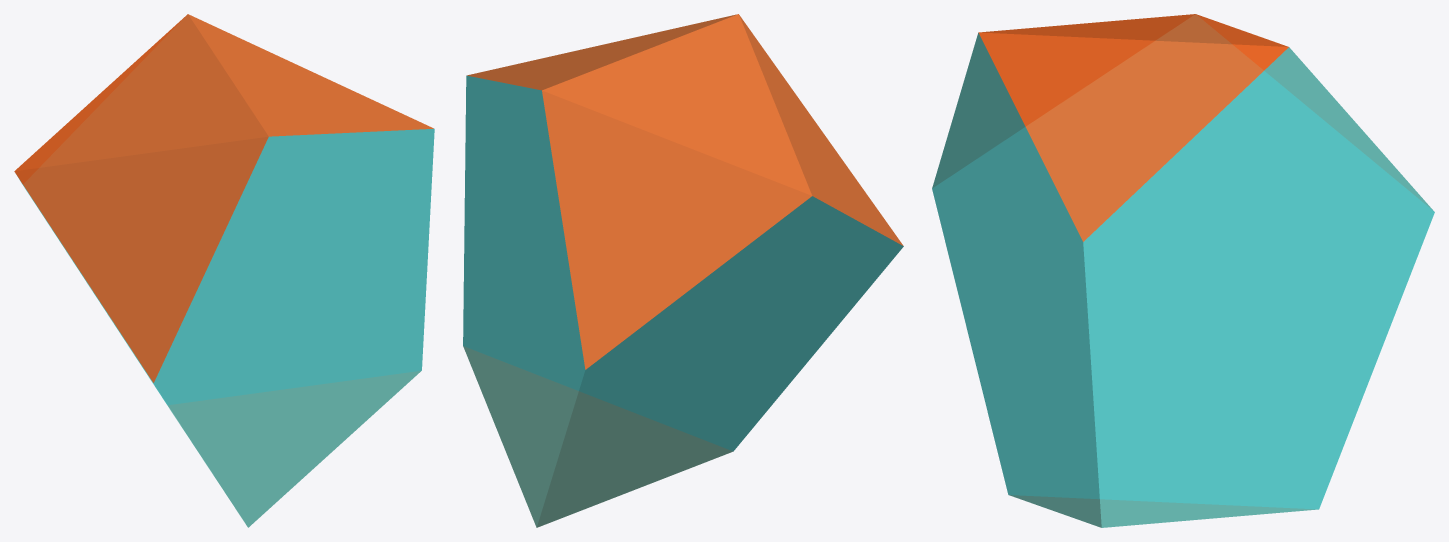
The model's file is j63_tridiminished_icosahedron.obj.
3 views of the same model, side by side, from view 1: azimuth 30°, elevation 25°; view 2: azimuth 150°, elevation 25°; view 3: azimuth 270°, elevation 25° (orthographic). The views are drawn at different scales.
Bounding box in the file's own units: 1.66 × 1.76 × 1.66.
